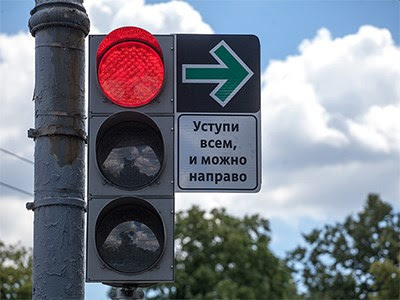trafficlight_red: (88, 29, 173, 280)
